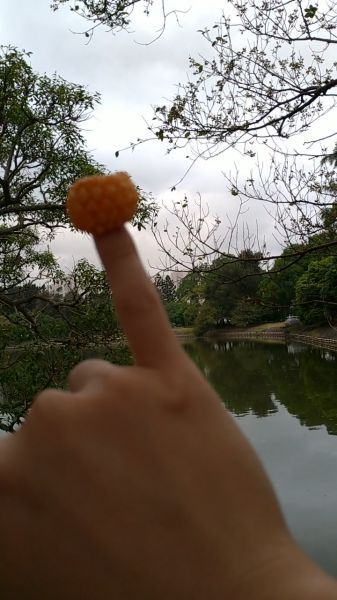eggs: (66, 172, 140, 233)
